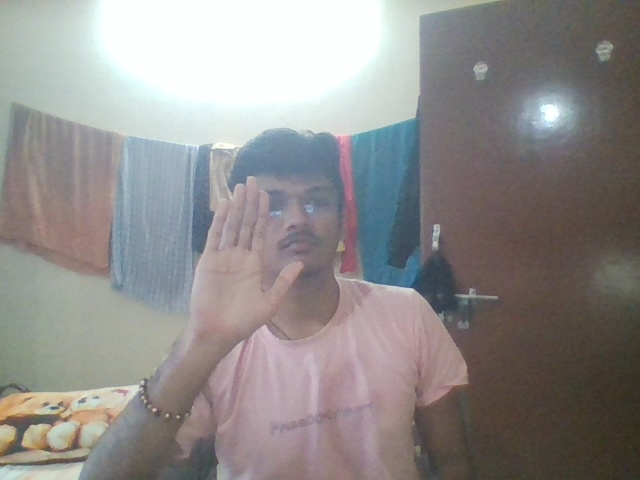hello: (187, 175, 313, 344)
